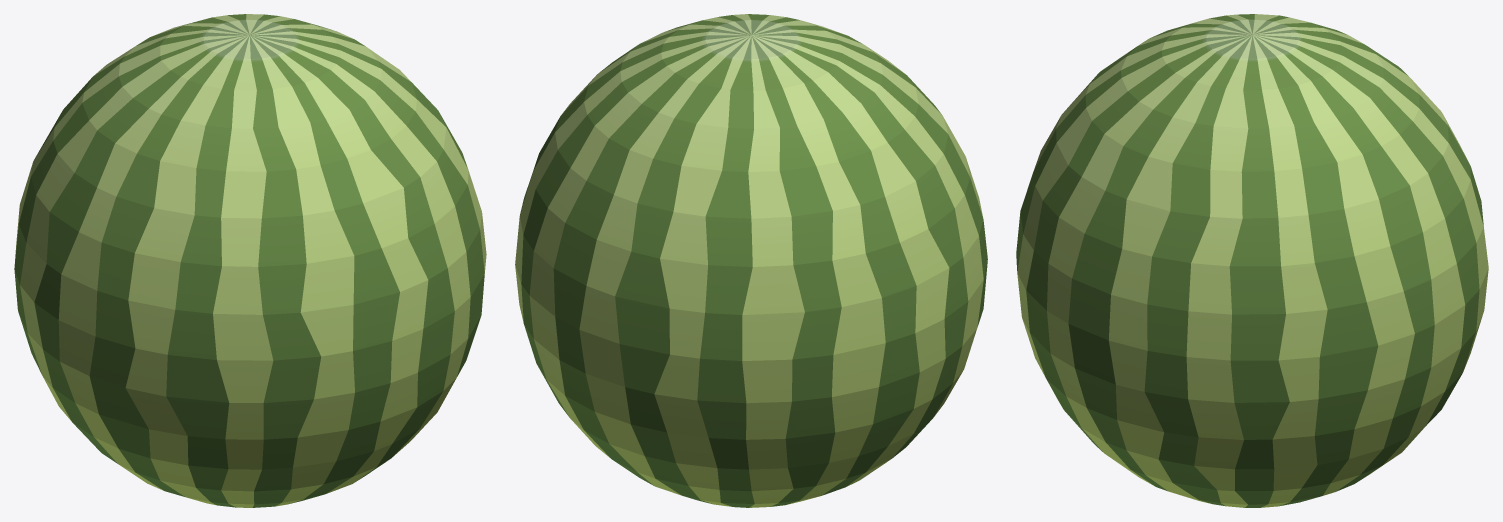
File: SM_Food_Watermelon_Full.fbx
3 renders of one model, left to right at view 1: azimuth 30°, elevation 25°; view 2: azimuth 150°, elevation 25°; view 3: azimuth 270°, elevation 25°, orthographic.
Visible parts, largest first — view 1: SM_Food_Watermelon_Full; view 2: SM_Food_Watermelon_Full; view 3: SM_Food_Watermelon_Full.
Part boxes in pixels (<box>): SM_Food_Watermelon_Full: <box>14,14,486,507</box>; SM_Food_Watermelon_Full: <box>515,14,987,507</box>; SM_Food_Watermelon_Full: <box>1016,14,1488,507</box>.
Size of the model in its own units: 28.24 by 29.86 by 28.29.
